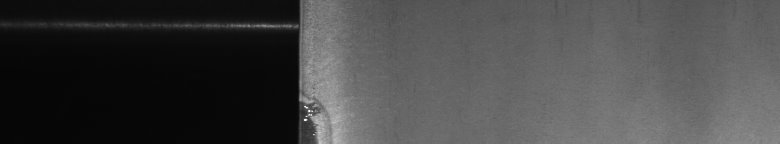hb: (308, 21, 340, 136)
